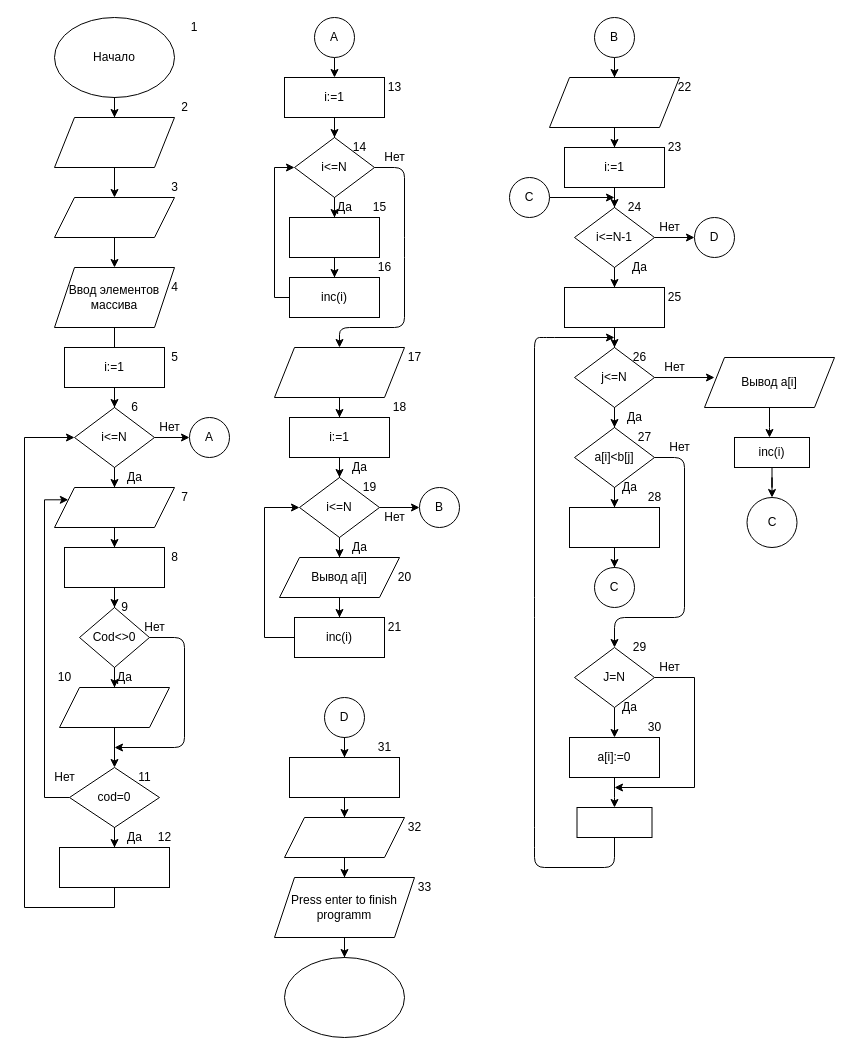
This 852x1055 diagram has some shape labels left out. Here are the shapes that lost their labels. From the top down, the centre of each, then its label:
At (614,102): "Преобразованный массив".
At (114,142): "Ввод кол-ва элементов".
At (114,217): "Ввод N".
At (334,237): "b[i]:=a[i]".
At (614,307): "J:=i+1".
At (339,372): "Введенный массив".
At (114,507): "Ввод str".
At (614,527): "a[i]:=b[j] inc(i)".
At (114,567): "val(str,TEMP,cod);".
At (114,707): "Ошибка".
At (344,777): "a[n]:=0".
At (344,837): "Вывод a[n]".
At (614,822): "inc(j)".
At (114,867): "a[i]:=TEMP inc(i)".
At (344,997): "Конец".
